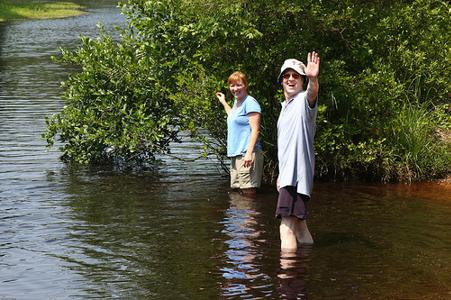person: (277, 52, 322, 247)
